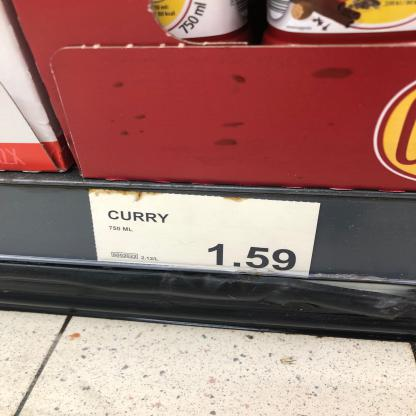prtg: (89, 190, 321, 277)
